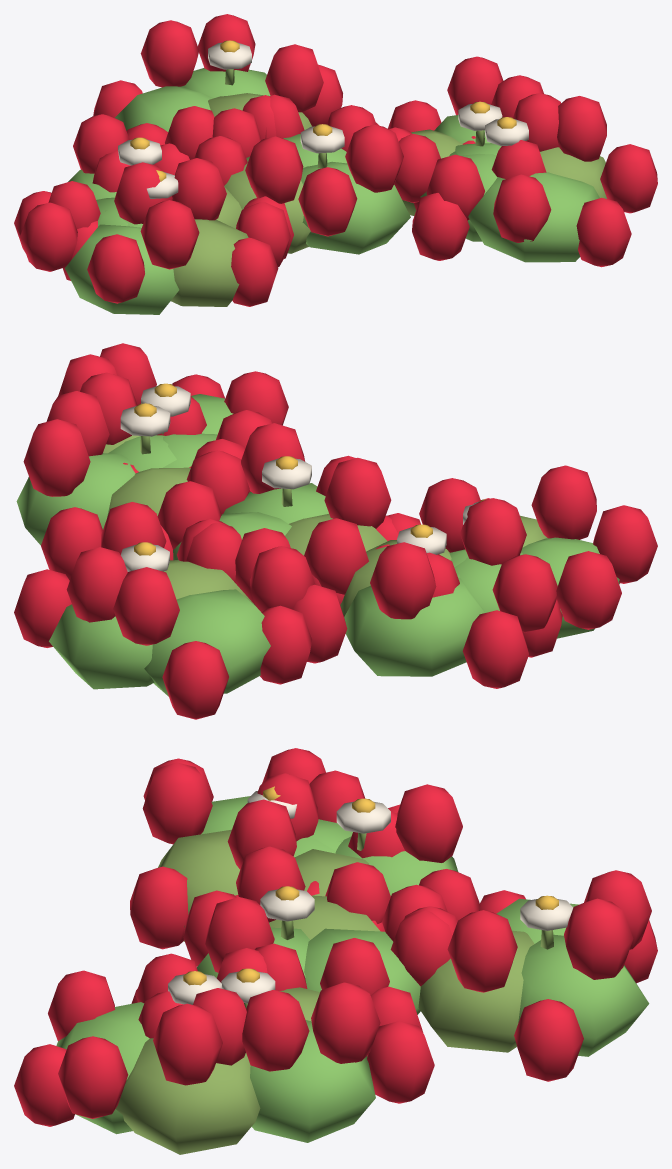
The model's file is strawberry_patch_v2.glb.
3 views of the same model, one above another, from view 1: azimuth 30°, elevation 25°; view 2: azimuth 150°, elevation 25°; view 3: azimuth 270°, elevation 25° (orthographic). The views are drawn at different scales.
Parts seen in each view (by area): view 1: strawberry_3, strawberry_2, strawberry_1; view 2: strawberry_3, strawberry_2, strawberry_1; view 3: strawberry_3, strawberry_2, strawberry_1.
Boxes of the visible parts, box(x1,y1,x2,y2) form: strawberry_3: box(20, 14, 657, 314); strawberry_2: box(14, 56, 546, 280); strawberry_1: box(194, 94, 412, 254); strawberry_3: box(14, 343, 657, 719); strawberry_2: box(16, 391, 562, 688); strawberry_1: box(160, 423, 391, 604); strawberry_3: box(14, 748, 657, 1154); strawberry_2: box(135, 773, 462, 1142); strawberry_1: box(183, 846, 452, 1056).
Size of the model in its own units: 1.56 by 0.3438 by 1.34.
